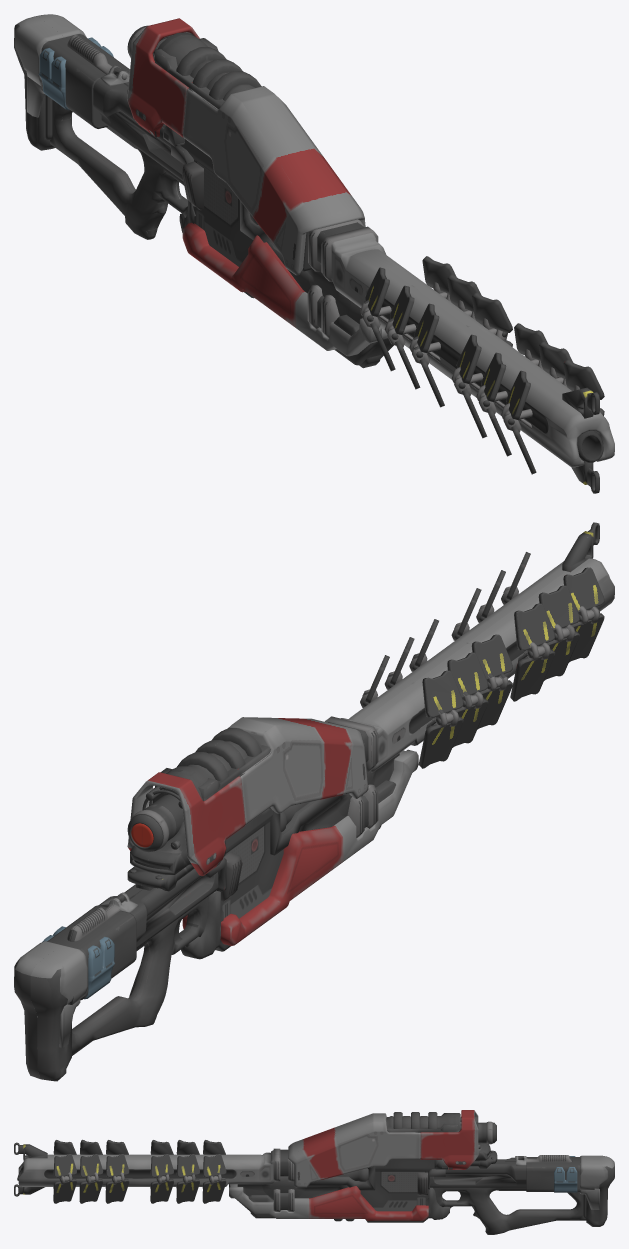
The model's file is future_gun5.fbx.
3 views of the same model, one above another, from view 1: azimuth 30°, elevation 25°; view 2: azimuth 150°, elevation 25°; view 3: azimuth 270°, elevation 25° (orthographic). The views are drawn at different scales.
Parts seen in each view (by area): view 1: future_gun5; view 2: future_gun5; view 3: future_gun5.
Part boxes in pixels (<box>): future_gun5: <box>14,14,614,493</box>; future_gun5: <box>14,522,614,1081</box>; future_gun5: <box>14,1110,614,1234</box>.
Bounding box in the file's own units: 11.85 × 27.05 × 122.
1 material, 1 textured.
